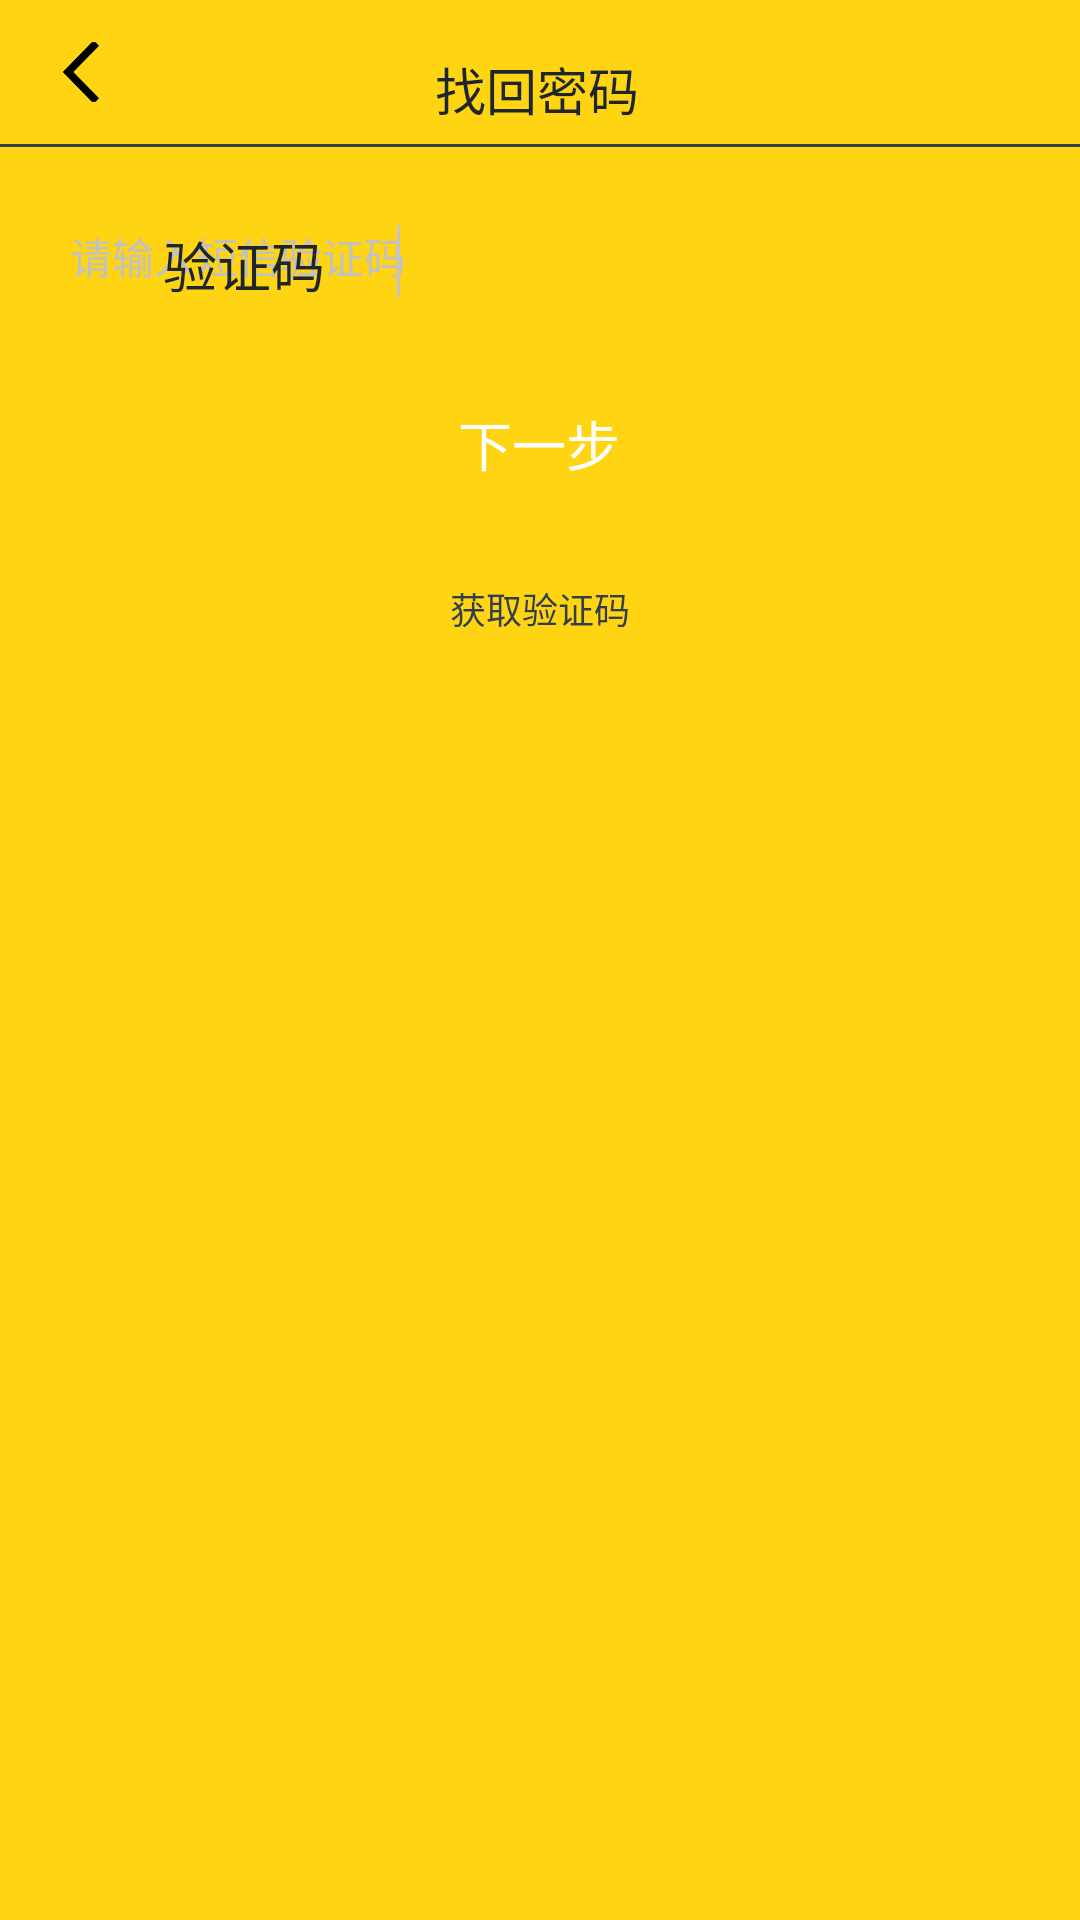

Screen size 1080×1920. Icon name, then its box in pixels as (x1, y1, x2, y2):
back: (63, 42, 99, 102)
